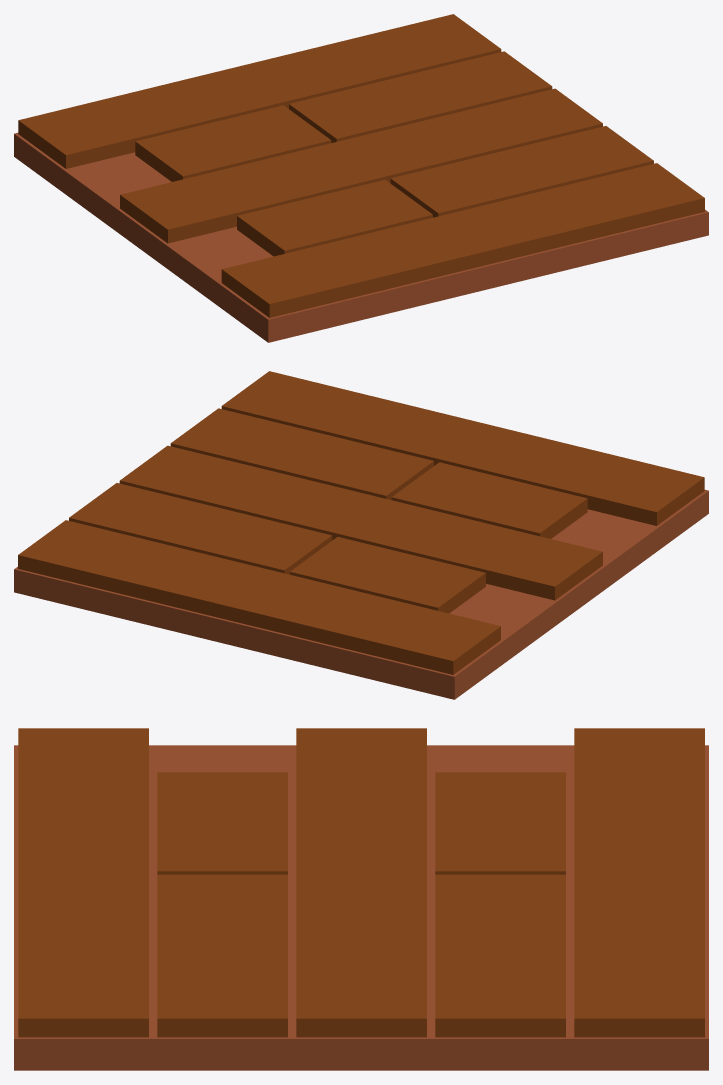
Rendered from Prop_Tile_Terrain_Dungeon_Timber_Panel_04.FBX.
3 views of the same model, one above another, from view 1: azimuth 30°, elevation 25°; view 2: azimuth 150°, elevation 25°; view 3: azimuth 270°, elevation 25° (orthographic). The views are drawn at different scales.
Visible parts, largest first — view 1: Prop_Tile_Terrain_Dungeon_Timber_Panel_04; view 2: Prop_Tile_Terrain_Dungeon_Timber_Panel_04; view 3: Prop_Tile_Terrain_Dungeon_Timber_Panel_04.
Part boxes in pixels (box(x1,y1,x2,y2)): Prop_Tile_Terrain_Dungeon_Timber_Panel_04: box(14, 14, 708, 342); Prop_Tile_Terrain_Dungeon_Timber_Panel_04: box(14, 371, 708, 699); Prop_Tile_Terrain_Dungeon_Timber_Panel_04: box(14, 728, 708, 1070).
Size of the model in its own units: 3000 by 240 by 3000.
